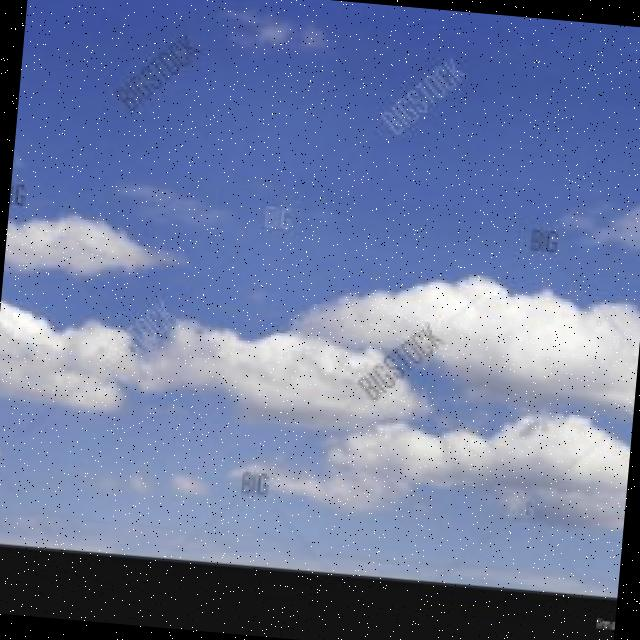Cs: (1, 205, 640, 545)
